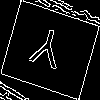Y: (25, 24, 67, 79)
